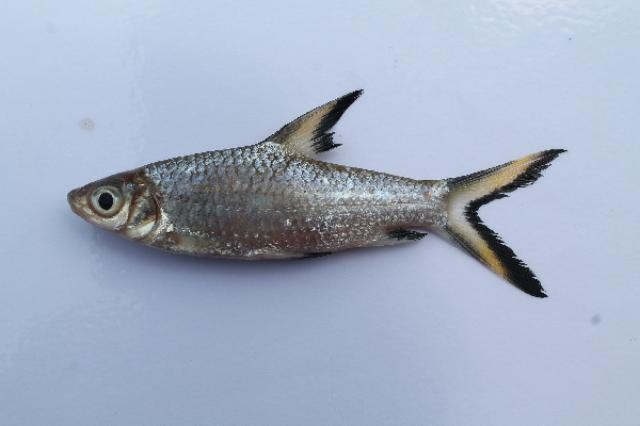Mulut: (54, 170, 108, 246)
Sirip Anal: (348, 212, 439, 262)
Sirip Dada: (146, 219, 222, 265)
Sirip Ekor: (430, 139, 578, 307)
Sirip Perut: (240, 237, 338, 277)
Sirip Punggung: (246, 78, 374, 178)
